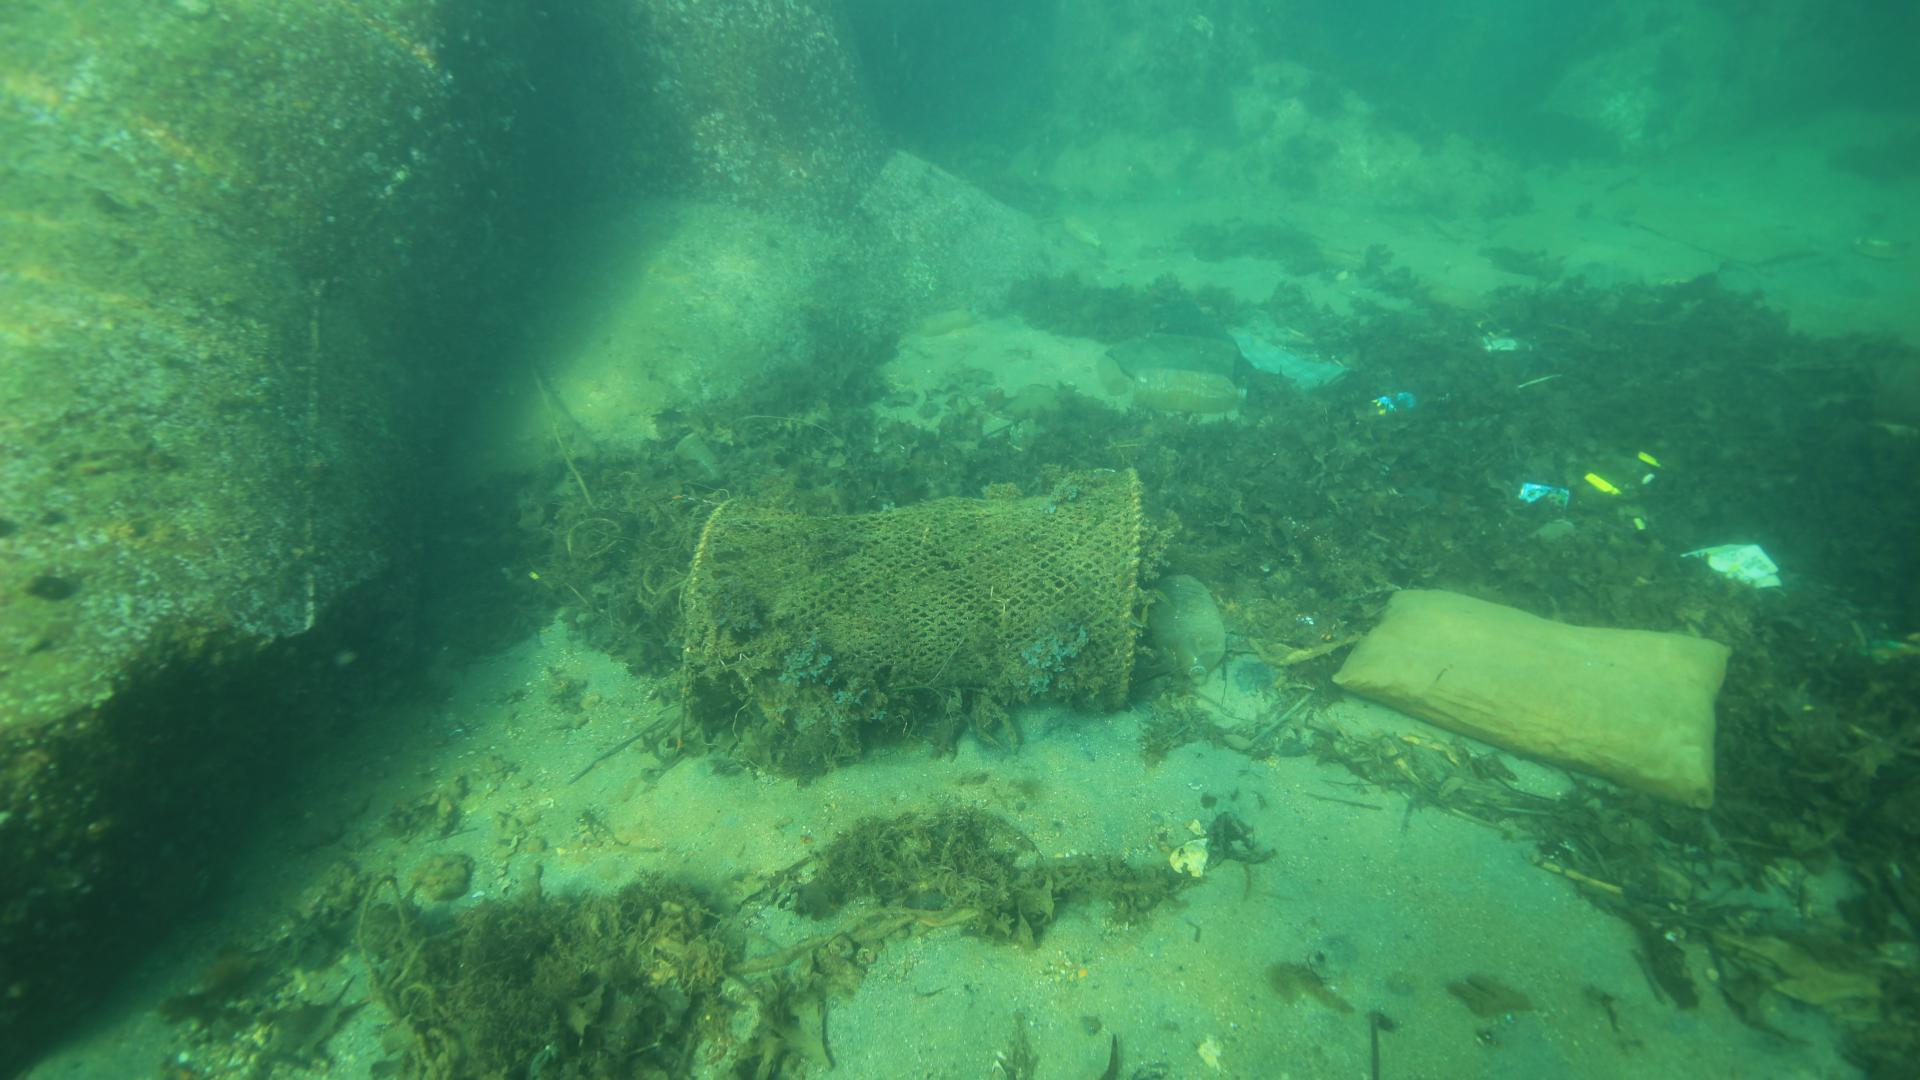spring fish trap: (680, 465, 1146, 713)
